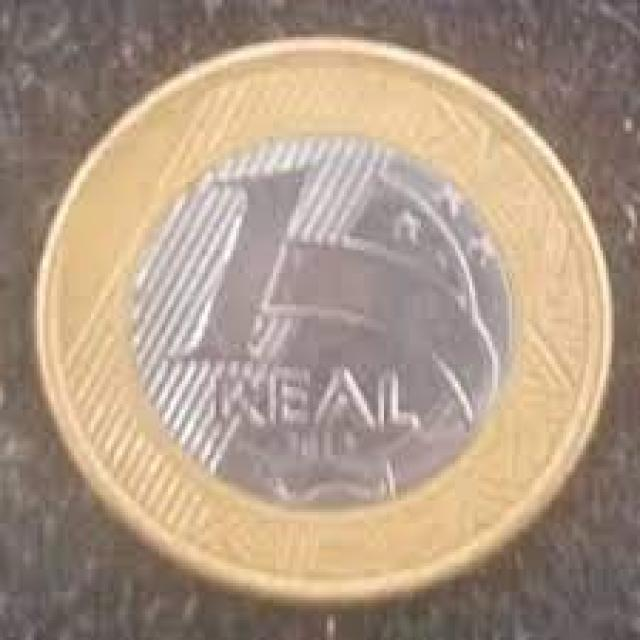1 real: (53, 39, 615, 588)
